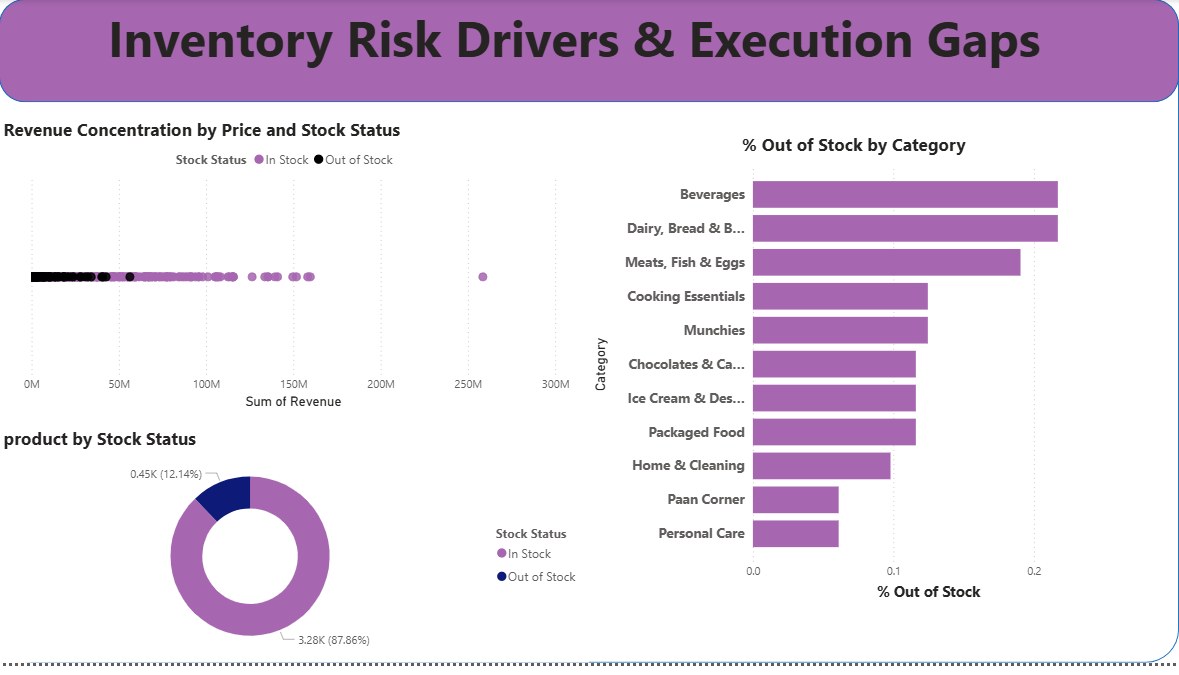

The page's visual inventory and layout, read from the dashboard file:
{"tool":"powerbi","page":{"name":"Page 2","canvas":[1280,720],"ordinal":1},"visuals":[{"type":"shape","box":[0,0,1280,720],"z":0},{"type":"shape","box":[0,0,1280,112],"z":1000},{"type":"scatterChart","title":"Revenue Concentration by Price and Stock Status","fields":{"Category":["zepto_v2 (1).discountedSellingPrice"],"X":["Sum(zepto_v2 (1).Revenue)"],"Series":["zepto_v2 (1).Stock Status"]},"box":[0,128,624,320],"z":2000},{"type":"barChart","fields":{"Category":["zepto_v2 (1).Category"],"Y":["zepto_v2 (1).% Out of Stock"]},"box":[640,144,576,512],"z":3000},{"type":"textbox","box":[96,0,1056,112],"z":4000},{"type":"donutChart","title":"product by Stock Status","fields":{"Category":["zepto_v2 (1).Stock Status"],"Y":["CountNonNull(zepto_v2 (1).name)"]},"box":[0,464,640,256],"z":5000}]}

Visuals, with their boxes in screenshot pixels (x1, y1, x2, y2), scaled from the page's 1280x720 canvas onto the 1179x675 screenshot:
shape: bbox(0, 0, 1178, 674)
shape: bbox(0, 0, 1178, 105)
"Revenue Concentration by Price and Stock Status" scatterChart: bbox(0, 120, 575, 420)
barChart - zepto_v2 (1).Category x zepto_v2 (1).% Out of Stock: bbox(590, 135, 1120, 615)
textbox: bbox(88, 0, 1061, 105)
"product by Stock Status" donutChart: bbox(0, 435, 590, 674)
